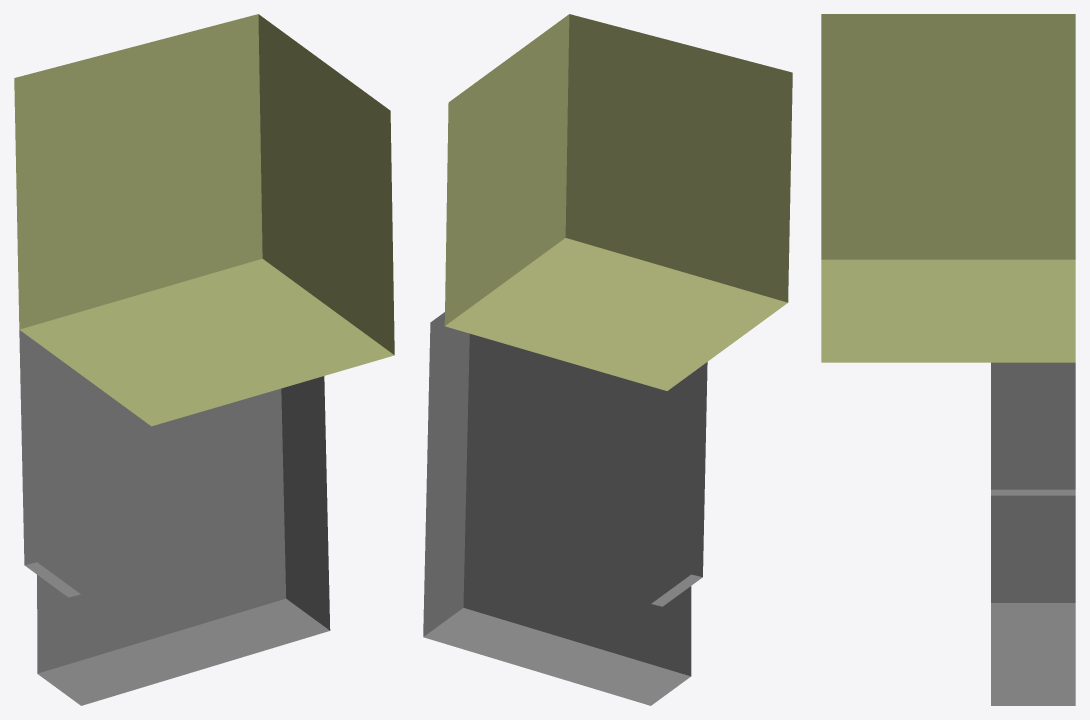
3 views of the same model, side by side, from view 1: azimuth 30°, elevation 25°; view 2: azimuth 150°, elevation 25°; view 3: azimuth 270°, elevation 25° (orthographic). The views are drawn at different scales.
Visible parts, largest first — view 1: 0_3_0_1_2_2_2_1_3; view 2: 0_3_0_1_2_2_2_1_3; view 3: 0_3_0_1_2_2_2_1_3.
Boxes of the visible parts, left/top/right/bottom form: 0_3_0_1_2_2_2_1_3: left=14, top=14, right=394, bottom=705; 0_3_0_1_2_2_2_1_3: left=423, top=14, right=792, bottom=705; 0_3_0_1_2_2_2_1_3: left=821, top=14, right=1075, bottom=705.
Size of the model in its own units: 10.69 by 22.76 by 9.
